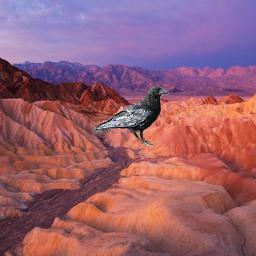Crow: (92, 85, 170, 147)
